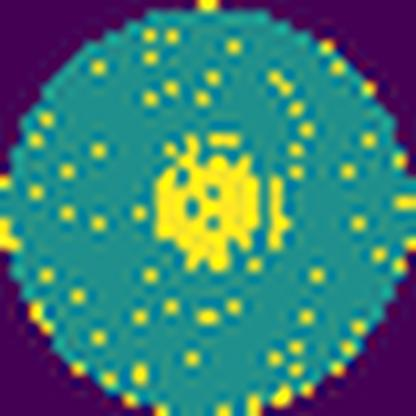Center: (156, 132, 292, 272)
